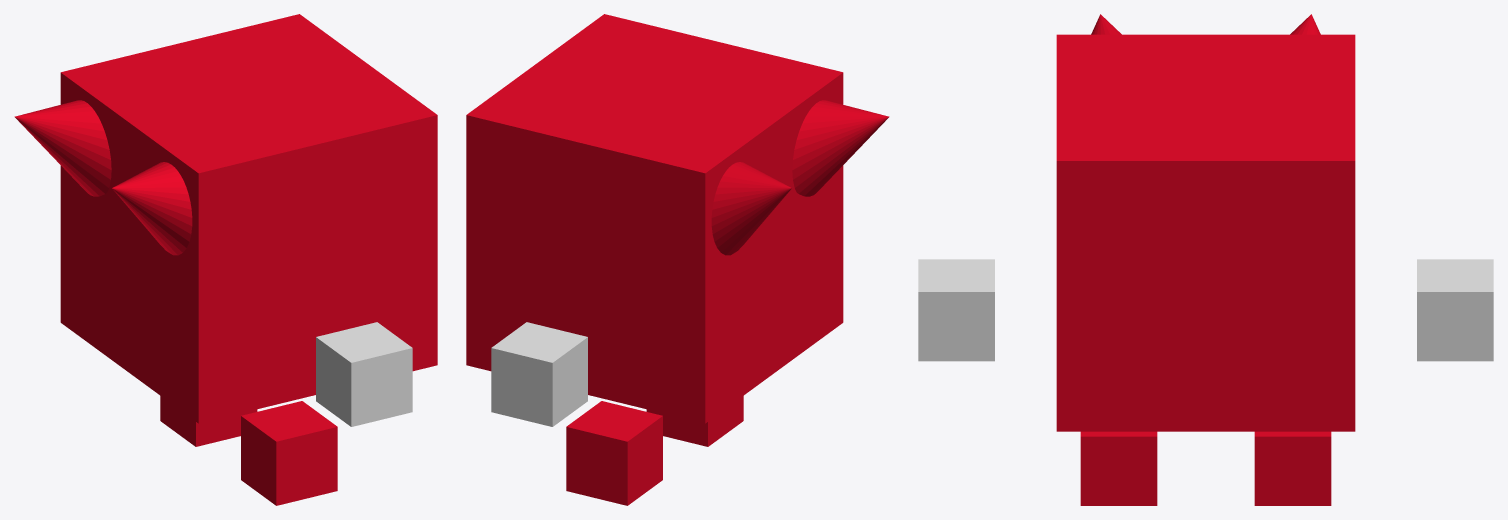
Rendered from enemyTest.fbx.
3 views of the same model, side by side, from view 1: azimuth 30°, elevation 25°; view 2: azimuth 150°, elevation 25°; view 3: azimuth 270°, elevation 25° (orthographic). The views are drawn at different scales.
Visible parts, largest first — view 1: 立方体, 立方体.001, 円錐, 立方体.002; view 2: 立方体, 立方体.001, 円錐, 立方体.002; view 3: 立方体, 立方体.002, 立方体.001, 円錐.
Boxes of the visible parts, x1,y1,x2,y2 form: 立方体: (60, 14, 437, 423); 立方体.001: (160, 396, 337, 505); 円錐: (14, 100, 192, 255); 立方体.002: (316, 322, 412, 426); 立方体: (466, 14, 843, 423); 立方体.001: (566, 396, 743, 505); 円錐: (711, 100, 889, 255); 立方体.002: (491, 322, 587, 426); 立方体: (1056, 34, 1355, 431); 立方体.002: (918, 259, 1493, 361); 立方体.001: (1080, 431, 1331, 505); 円錐: (1091, 14, 1320, 34).
Bounding box in the file's own units: 5.08 × 3.82 × 3.37.
